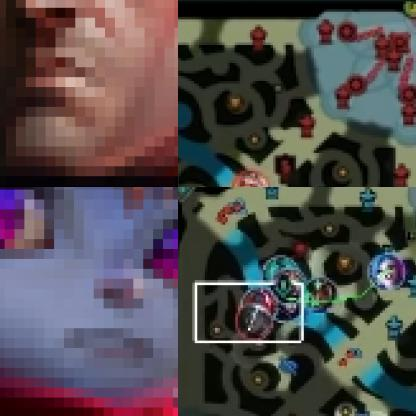Hecarim: (265, 256, 304, 290)
Jinx: (368, 251, 407, 290)
Karma: (301, 278, 339, 311)
Leblanc: (269, 288, 304, 321)
Poppy: (0, 187, 177, 415)
Qiyana: (233, 167, 271, 186)
Senna: (236, 306, 275, 341)
Sion: (240, 286, 276, 324)
Swain: (0, 0, 177, 186)
